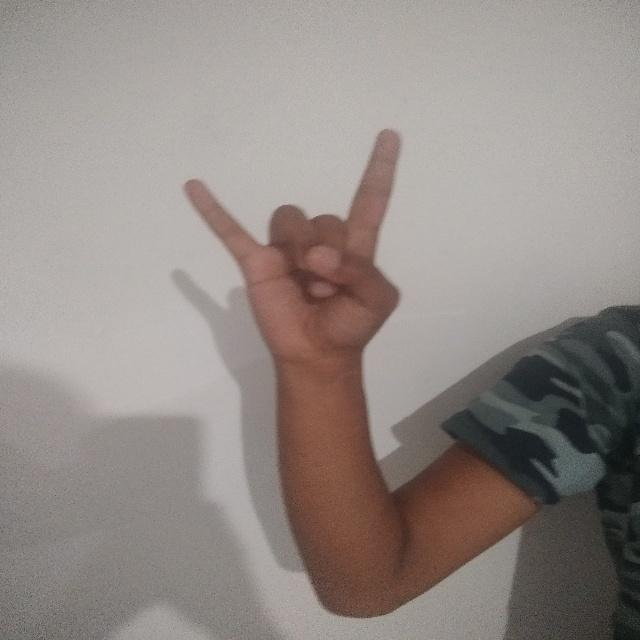Corna: (175, 127, 418, 403)
